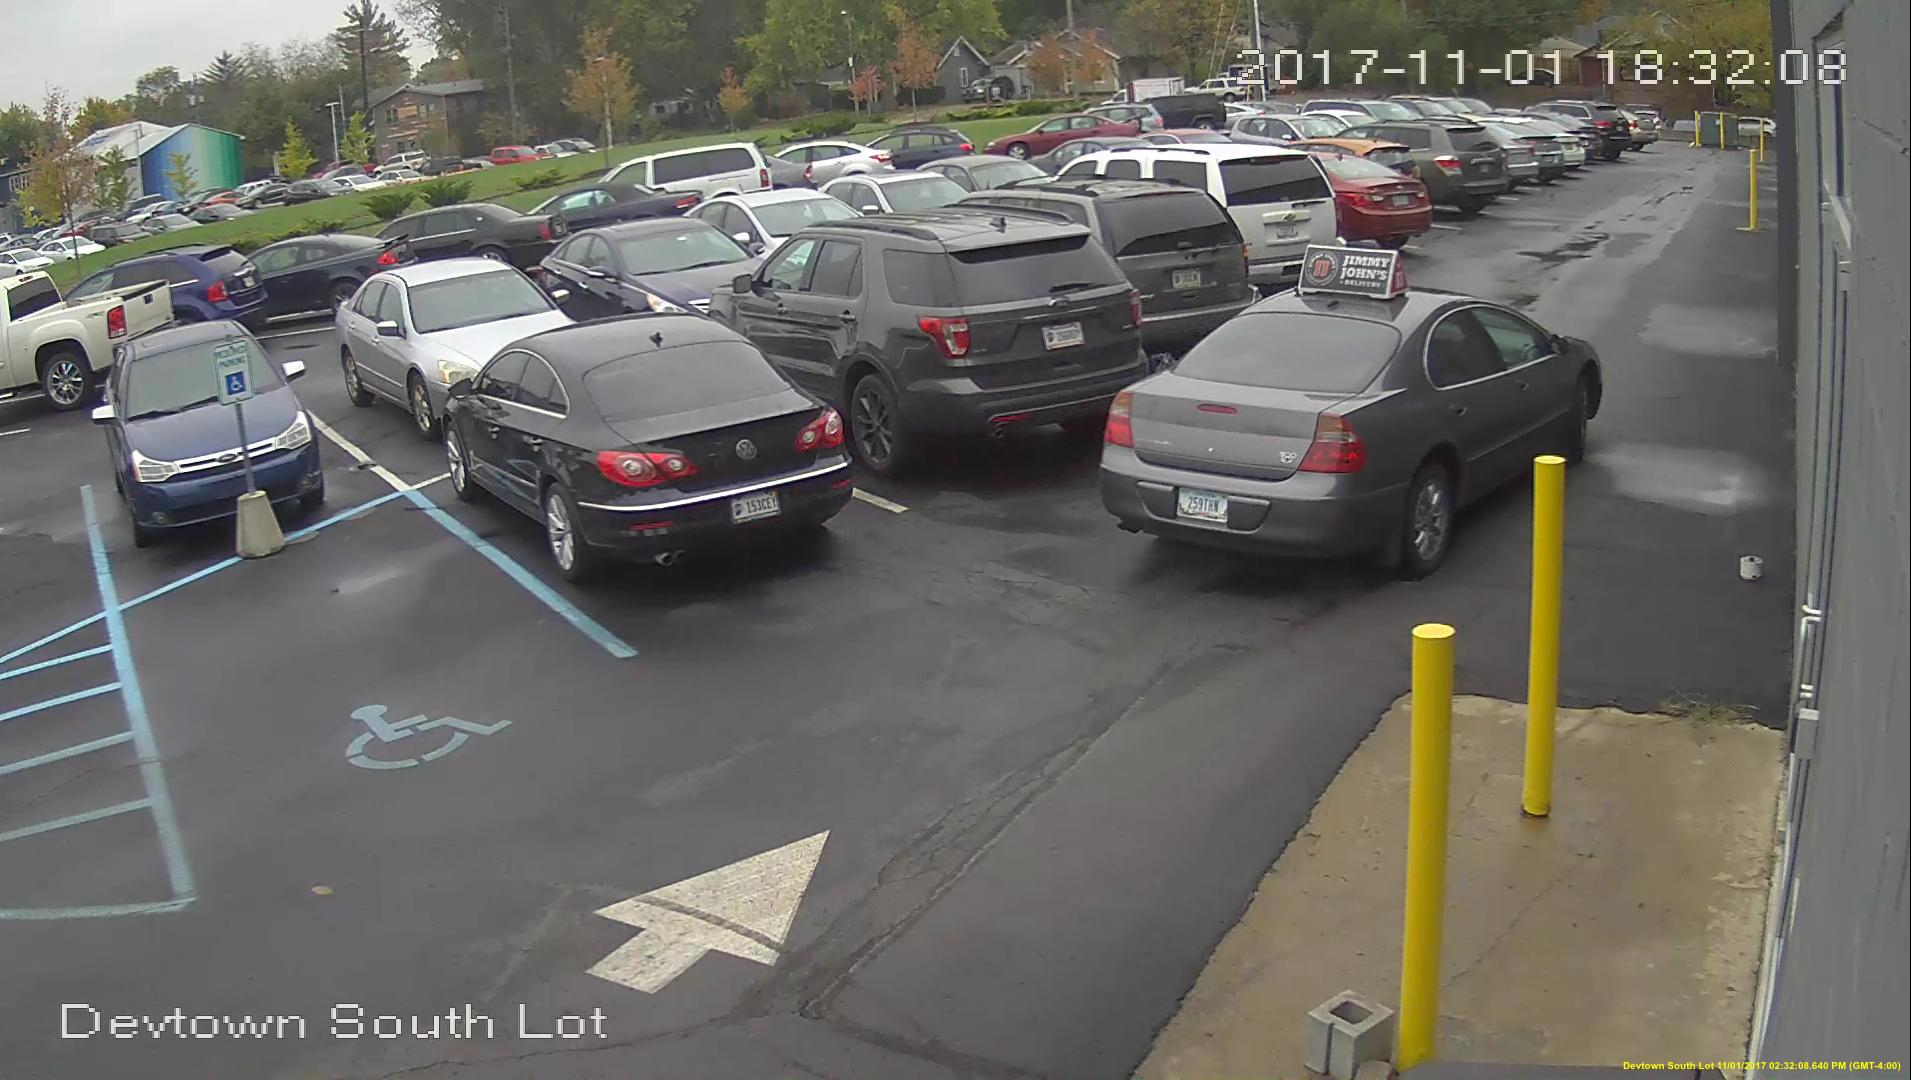jimmy_johns: (1295, 244, 1411, 306)
